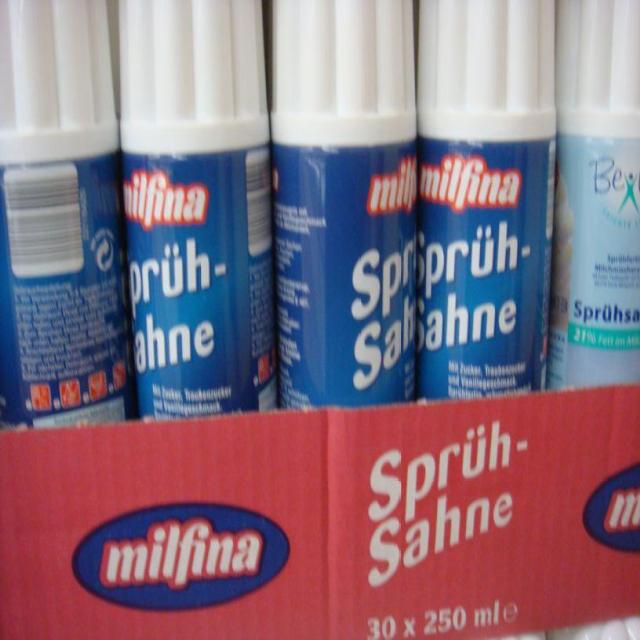cream: (121, 0, 276, 418), (272, 0, 416, 409), (0, 0, 133, 427), (417, 0, 555, 398), (548, 0, 639, 388)
